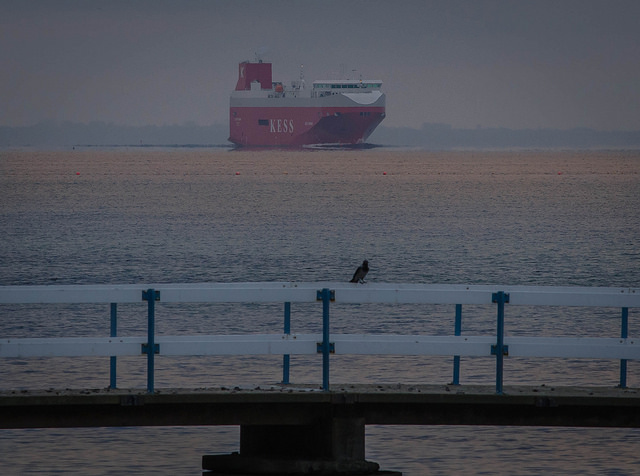PCC: (223, 56, 385, 148)
